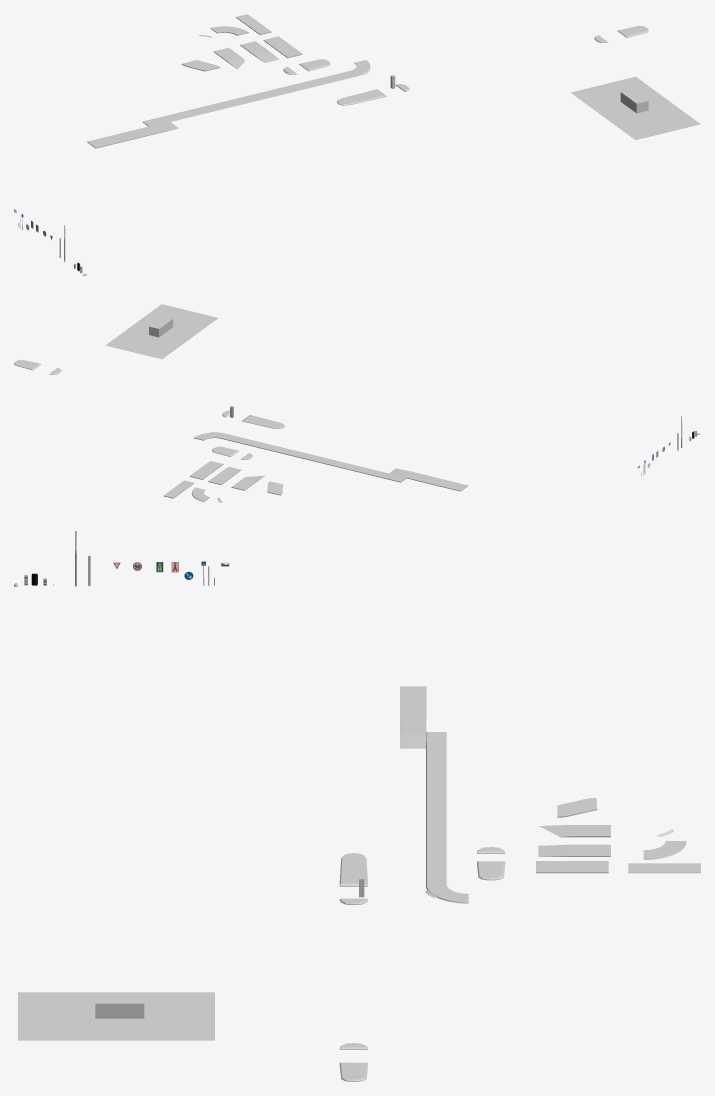
File: TrafficAssets.fbx
3 views of the same model, one above another, from view 1: azimuth 30°, elevation 25°; view 2: azimuth 150°, elevation 25°; view 3: azimuth 270°, elevation 25° (orthographic). The views are drawn at different scales.
Visible parts, largest first — view 1: Plane, Cube, LaneDivider1.001, BikeLaneStraight.001; view 2: Plane, Cube, BikeLaneStraight.001, LaneDivider1.001; view 3: Plane, Cube, BikeLaneStraight, BikeLaneSlope, BikeLaneSlope.001, LaneDivider1.001, BikeLaneStraight.001.
Part boxes in pixels (x1,y1,x2,y2): Plane: [570, 76, 700, 140]; Cube: [620, 89, 648, 113]; LaneDivider1.001: [337, 89, 386, 105]; BikeLaneStraight.001: [87, 131, 137, 148]; Plane: [105, 304, 217, 359]; Cube: [149, 316, 173, 337]; BikeLaneStraight.001: [424, 476, 468, 491]; LaneDivider1.001: [242, 415, 285, 428]; Plane: [18, 992, 214, 1040]; Cube: [95, 995, 144, 1018]; BikeLaneStraight: [536, 861, 608, 873]; BikeLaneSlope: [538, 844, 610, 856]; BikeLaneSlope.001: [400, 717, 426, 748]; LaneDivider1.001: [339, 853, 367, 886]; BikeLaneStraight.001: [400, 686, 426, 717].
Bounding box in the file's own units: 10855 × 554 × 6311.
